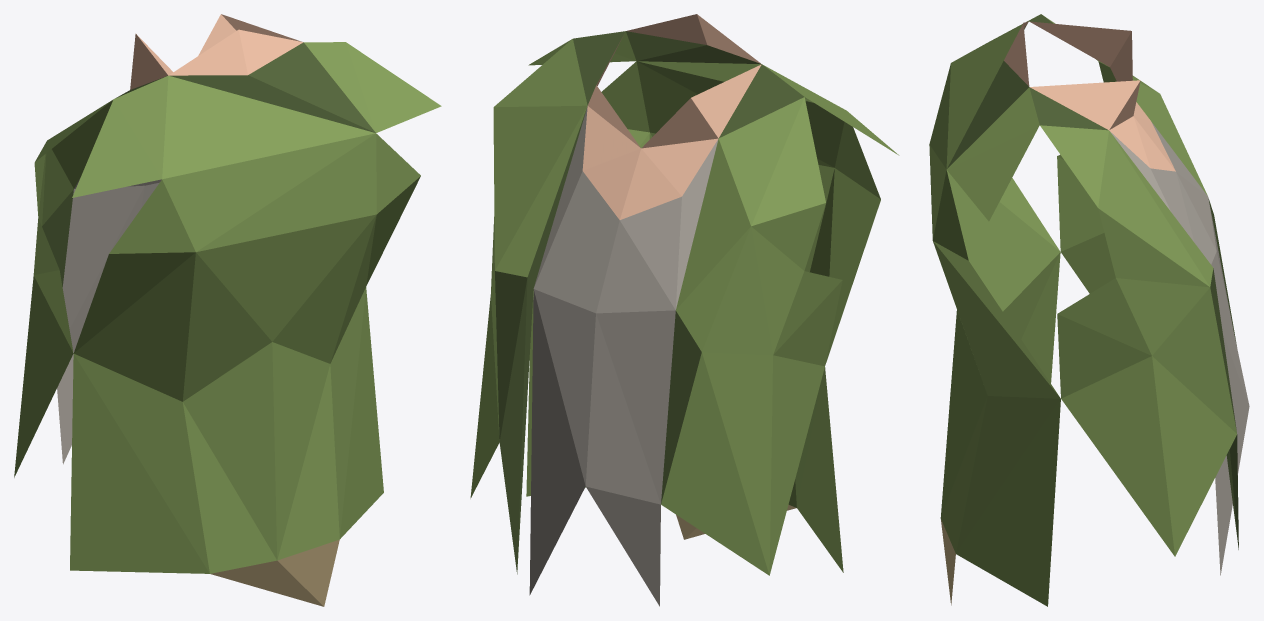
The model's file is Torso_Lo.obj.
The picture shows the model from 3 angles, left to right: view 1: azimuth 30°, elevation 25°; view 2: azimuth 150°, elevation 25°; view 3: azimuth 270°, elevation 25°; orthographic projection.
Bounding box in the file's own units: 0.507 × 0.7355 × 0.3813.
Materials: 1 (1 with a texture image).
